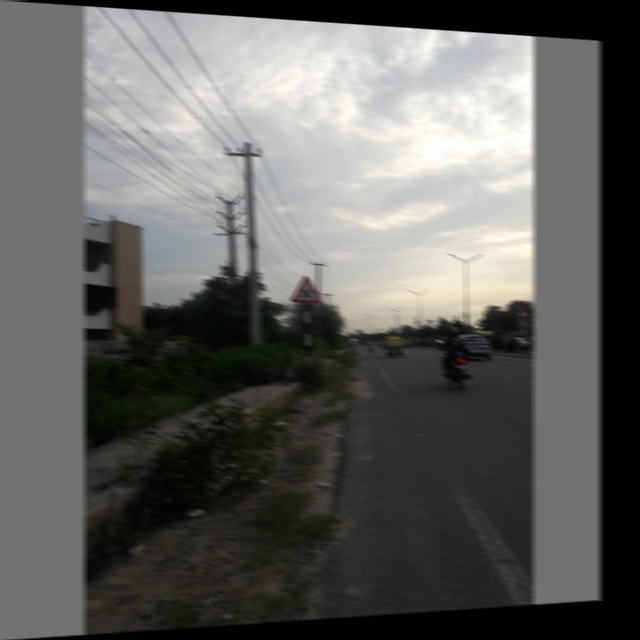Cross_Road: (288, 269, 323, 305)
